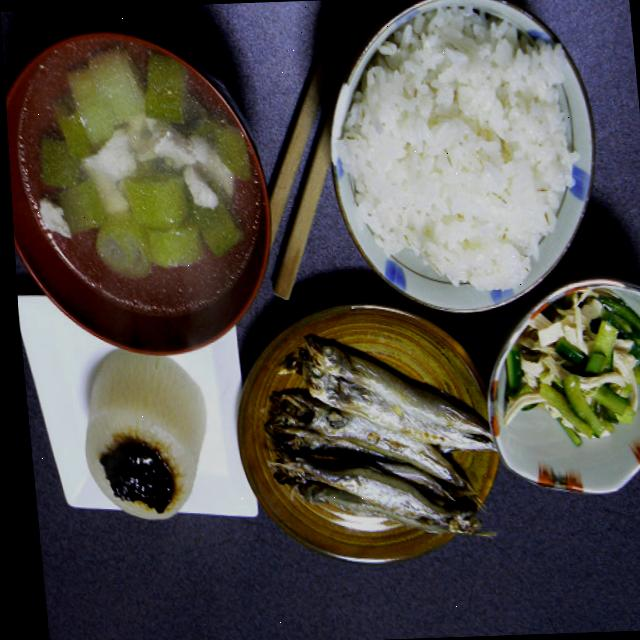米饭主食: (317, 0, 605, 303)
